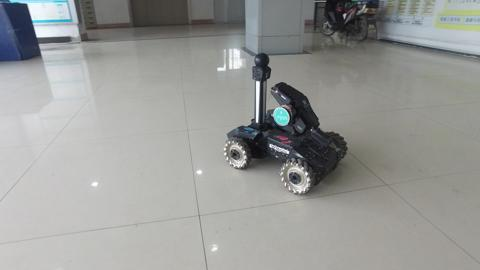chariot: (222, 51, 348, 196)
